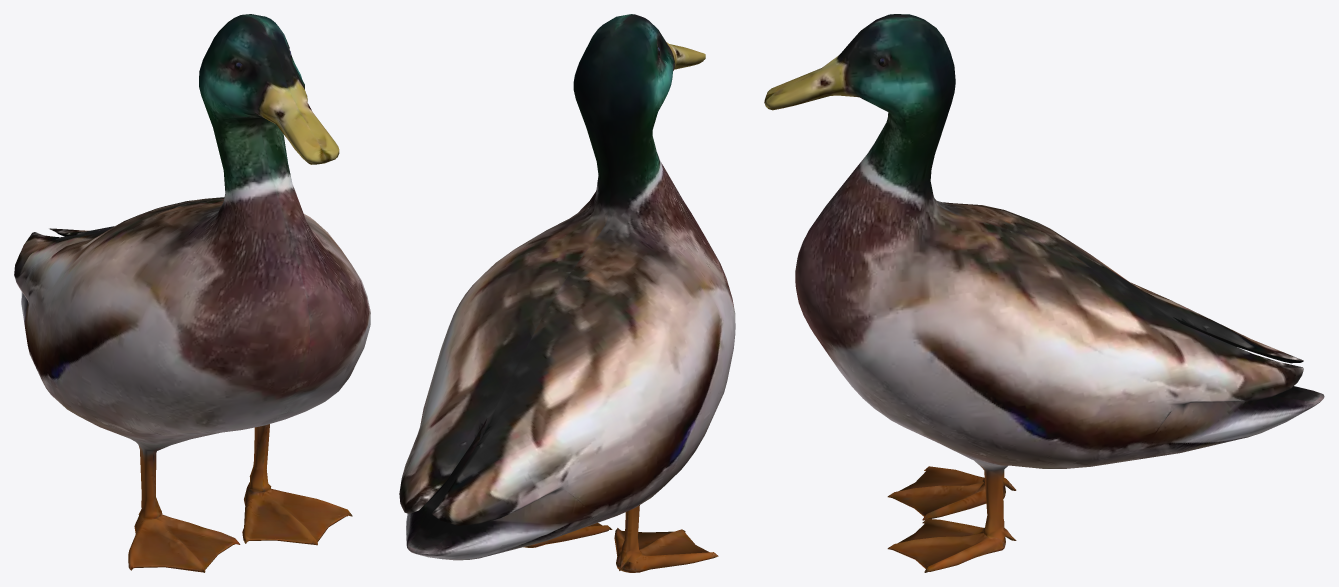
Rendered from duck.glb.
3 renders of one model, left to right at view 1: azimuth 30°, elevation 25°; view 2: azimuth 150°, elevation 25°; view 3: azimuth 270°, elevation 25°, orthographic. The views are drawn at different scales.
Parts seen in each view (by area): view 1: 12248_Bird_v1; view 2: 12248_Bird_v1; view 3: 12248_Bird_v1.
Boxes of the visible parts, left/top/right/bottom form: 12248_Bird_v1: left=14, top=14, right=370, bottom=572; 12248_Bird_v1: left=399, top=14, right=735, bottom=572; 12248_Bird_v1: left=764, top=14, right=1324, bottom=572.
Bounding box in the file's own units: 0.151 × 0.3 × 0.3001.
1 material, 1 textured.
